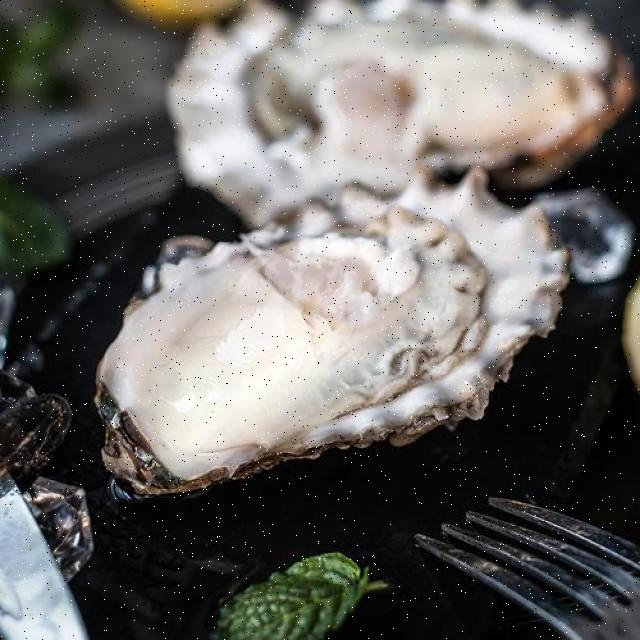Oyster-Open: (95, 162, 580, 500), (168, 0, 640, 220)
